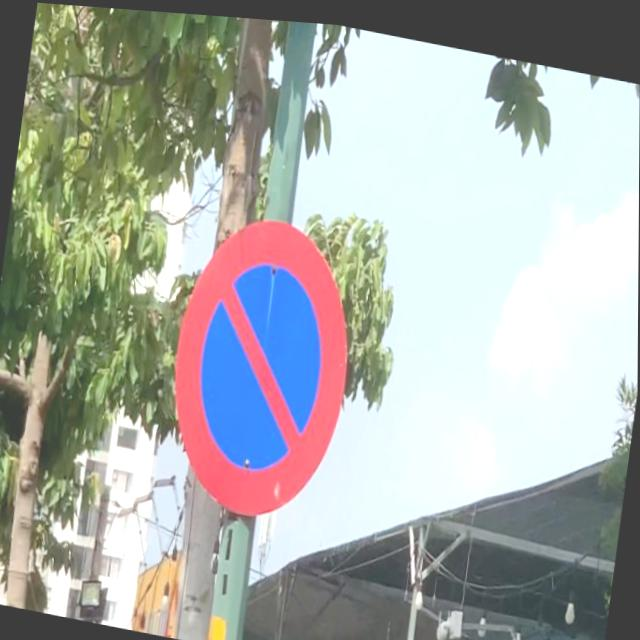Cam do xe: (153, 192, 370, 534)
